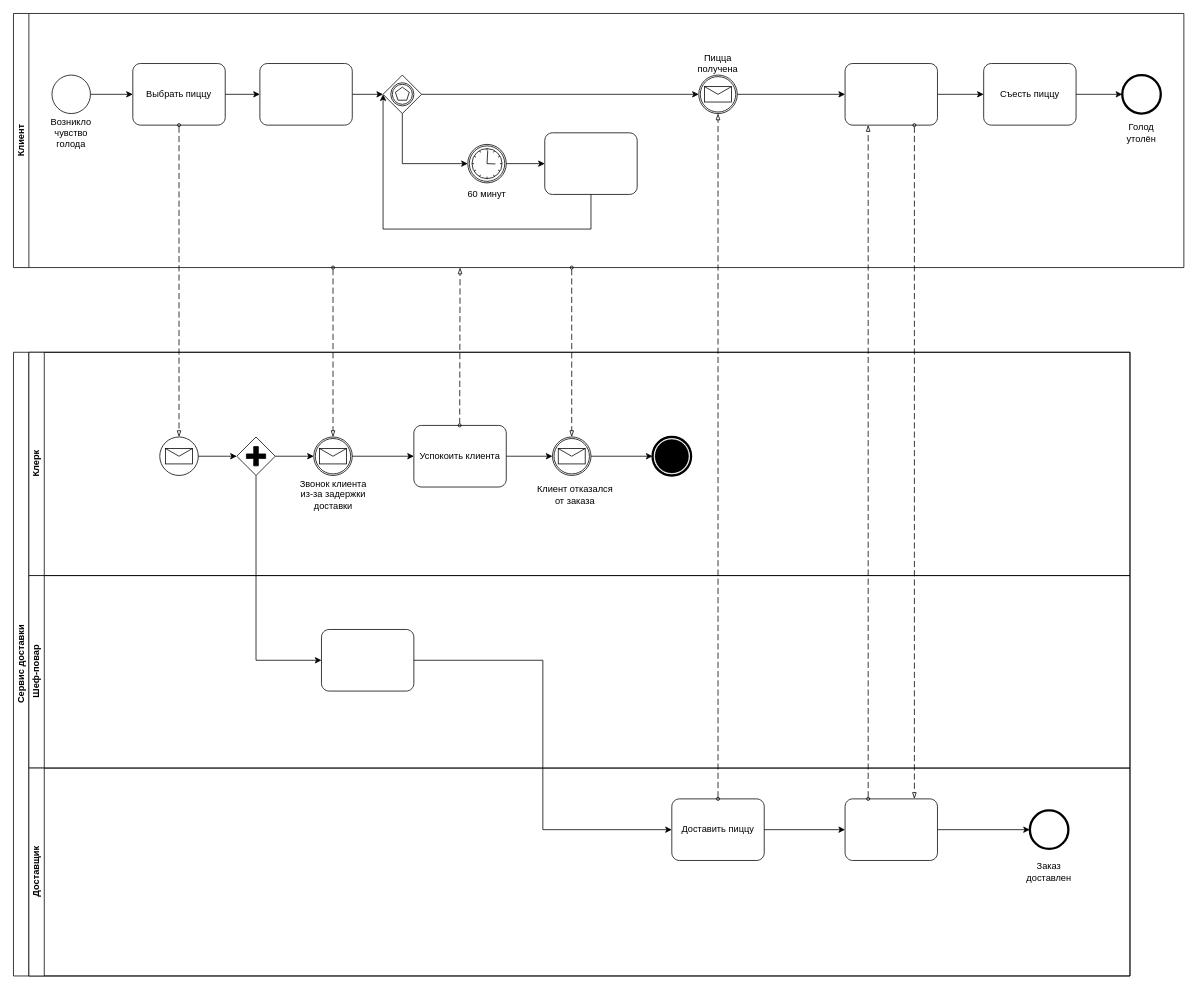
Image size: 1197x989. Some labels were removed from this diagram. Each missing label, with the centre of its shape:
Заказать пиццу: point 305,94
Заплатить за пиццу: point 890,94
Обратиться в службу доставки: point 590,163
Получить деньги: point 890,829
Приготовить пиццу: point 367,660
